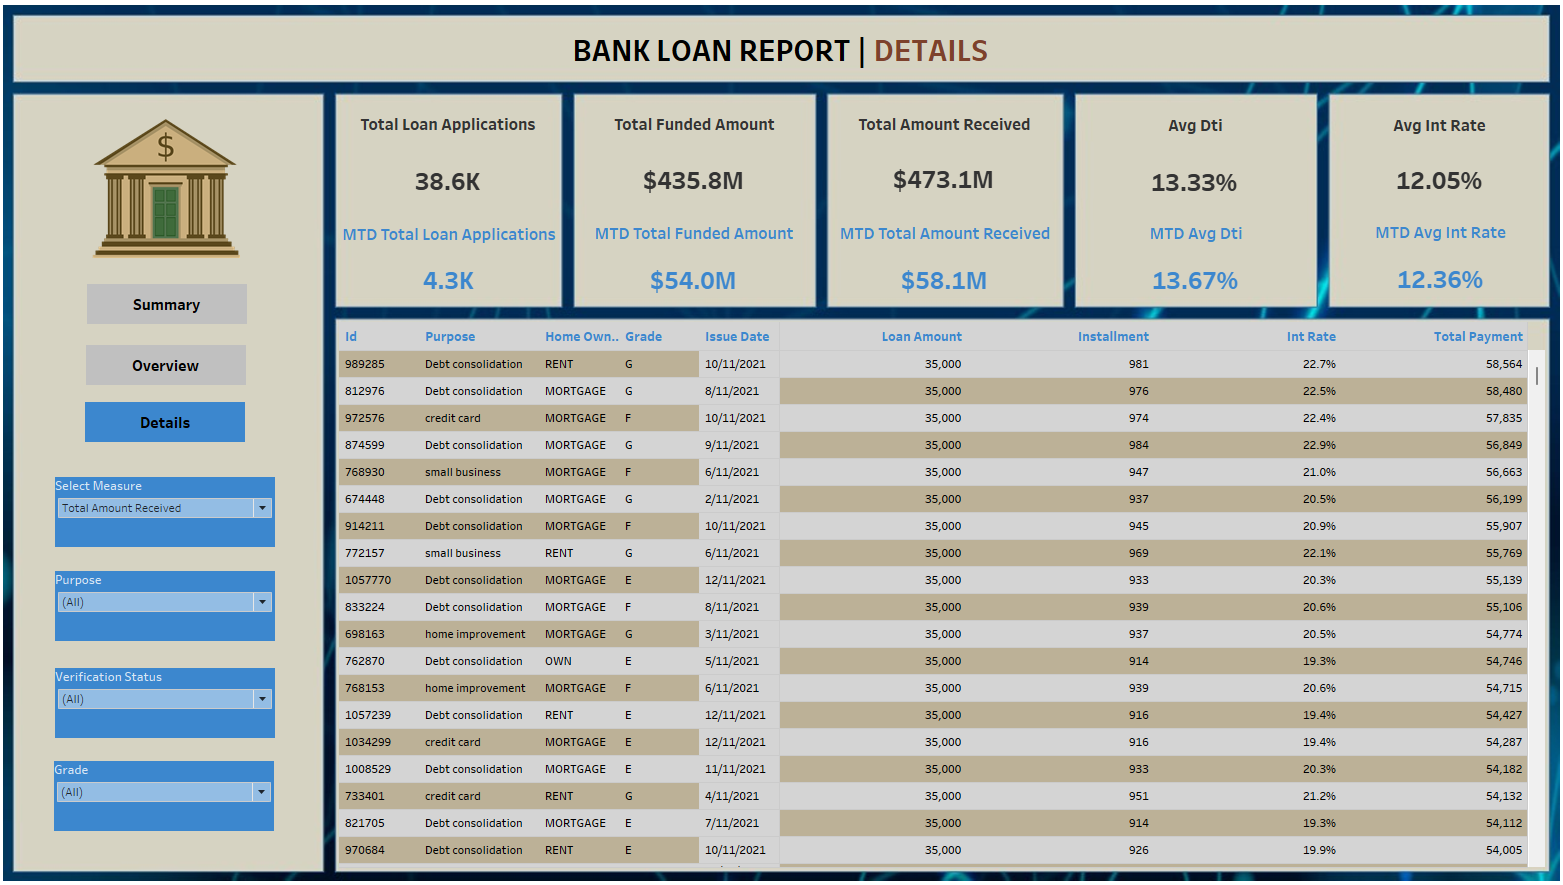

The page's visual inventory and layout, read from the dashboard file:
{"tool":"tableau","page":{"name":"DETAILS","canvas":[1600,900],"ordinal":0},"visuals":[{"type":"image","param":"Image/Background 4.jpg","box":[8,8,1584,884]},{"type":"text","box":[34,27,1529,58]},{"type":"worksheet","title":"Total Loan Applications","mark":"Automatic","box":[354,116,224,107]},{"type":"worksheet","title":"Total Funded Amount","mark":"Automatic","box":[594,116,237,105]},{"type":"worksheet","title":"Total Amount Received","mark":"Automatic","box":[848,116,229,102]},{"type":"worksheet","title":"Avg Dti","mark":"Automatic","box":[1096,117,235,106]},{"type":"worksheet","title":"Avg Int Rate","mark":"Automatic","box":[1351,117,213,103]},{"type":"image","param":"Image/Document bank.png","box":[110,125,180,140]},{"type":"worksheet","title":"MTD Avg Int Rate","mark":"Automatic","box":[1349,224,219,87]},{"type":"worksheet","title":"MTD Total Funded Amount","mark":"Automatic","box":[594,225,236,86]},{"type":"worksheet","title":"MTD Total Amount Received","mark":"Automatic","box":[847,225,232,86]},{"type":"worksheet","title":"MTD Avg Dti","mark":"Automatic","box":[1095,225,238,87]},{"type":"worksheet","title":"MTD Total Loan Applications","mark":"Automatic","box":[354,226,226,85]},{"type":"dashboard-object","box":[105,291,160,40]},{"type":"worksheet","title":"Details Tab","mark":"Automatic","rows":["id","purpose","home_ownership","grade","issue_date"],"box":[357,329,1207,546]},{"type":"dashboard-object","box":[104,352,160,40]},{"type":"dashboard-object","box":[103,409,160,40]},{"type":"parameter","param":"[Parameters].[Parameter 1]","box":[73,484,220,70]},{"type":"filter","title":"Avg Dti","param":"[federated.1adml930tu6t5w1aidls701bf2zq].[none:purpose:nk]","box":[73,578,220,70]},{"type":"filter","title":"Avg Dti","param":"[federated.1adml930tu6t5w1aidls701bf2zq].[none:verification_status:nk]","box":[73,675,220,70]},{"type":"filter","title":"Avg Dti","param":"[federated.1adml930tu6t5w1aidls701bf2zq].[none:grade:nk]","box":[72,768,220,70]}]}

Visuals, with their boxes in screenshot pixels (x1, y1, x2, y2), scaled from the page's 1600x900 canvas onto the 1563x885 screenshot:
image: 8 8 1555 877
text: 33 27 1527 84
"Total Loan Applications" worksheet: 346 114 565 219
"Total Funded Amount" worksheet: 580 114 812 217
"Total Amount Received" worksheet: 828 114 1052 214
"Avg Dti" worksheet: 1071 115 1300 219
"Avg Int Rate" worksheet: 1320 115 1528 216
image: 107 123 283 261
"MTD Avg Int Rate" worksheet: 1318 220 1532 306
"MTD Total Funded Amount" worksheet: 580 221 811 306
"MTD Total Amount Received" worksheet: 827 221 1054 306
"MTD Avg Dti" worksheet: 1070 221 1302 307
"MTD Total Loan Applications" worksheet: 346 222 567 306
dashboard-object: 103 286 259 325
"Details Tab" worksheet: 349 324 1528 860
dashboard-object: 102 346 258 385
dashboard-object: 101 402 257 442
parameter: 71 476 286 545
"Avg Dti" filter: 71 568 286 637
"Avg Dti" filter: 71 664 286 733
"Avg Dti" filter: 70 755 285 824
